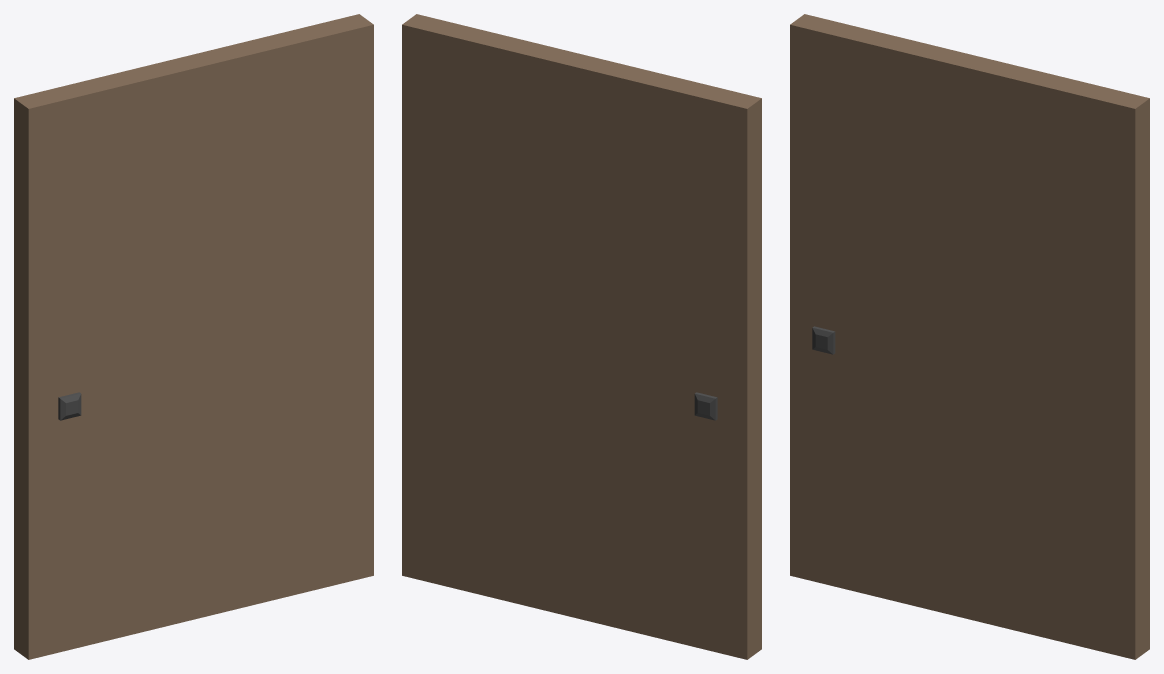
File: Door.fbx
The picture shows the model from 3 angles, left to right: view 1: azimuth 30°, elevation 25°; view 2: azimuth 150°, elevation 25°; view 3: azimuth 330°, elevation 25°; orthographic projection.
Visible parts, largest first — view 1: Cube.004; view 2: Cube.004; view 3: Cube.004.
Boxes of the visible parts, x1=… form: Cube.004: x1=14, y1=14, x2=373, y2=659; Cube.004: x1=402, y1=14, x2=761, y2=659; Cube.004: x1=790, y1=14, x2=1149, y2=659.
Size of the model in its own units: 1120 by 1708 by 149.
